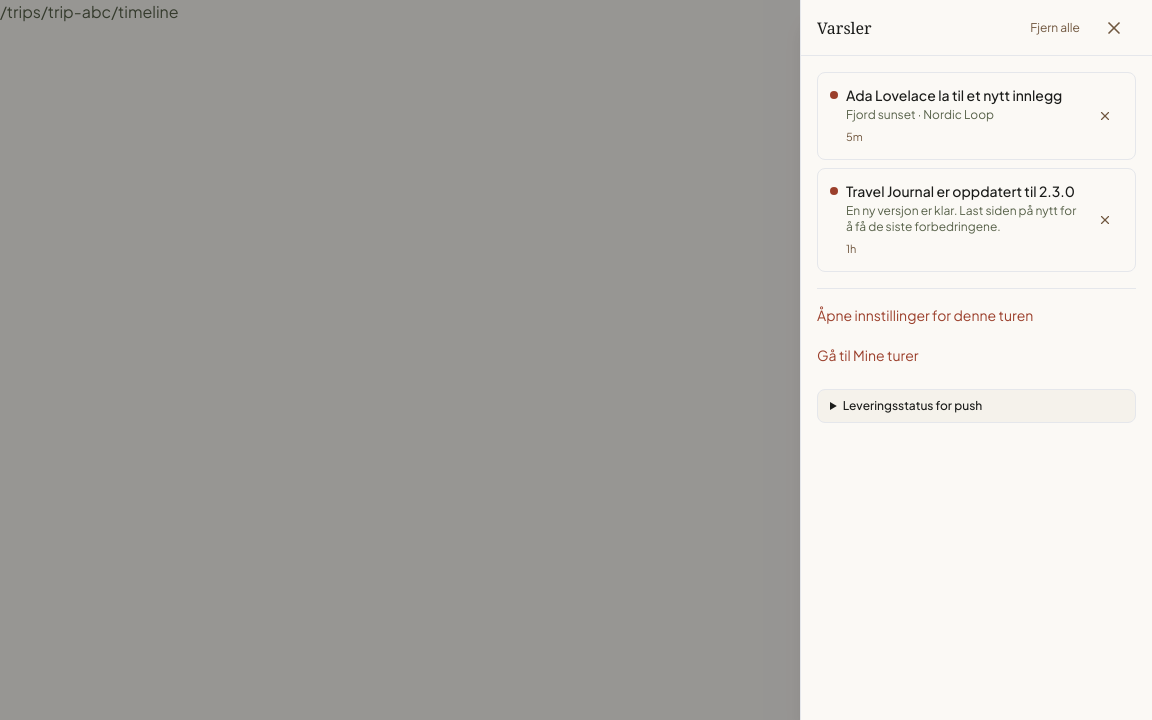
Notifications inbox (bell badge + panel) › clears all when the clear-all action is used
The image size is (1152, 720).
Check: the list item with test id "notification-item-notif-trip-1" is shown, box [817,72,1136,160]
Click the button "Fjern alle" at [1055, 28], box [1022,16,1088,40]
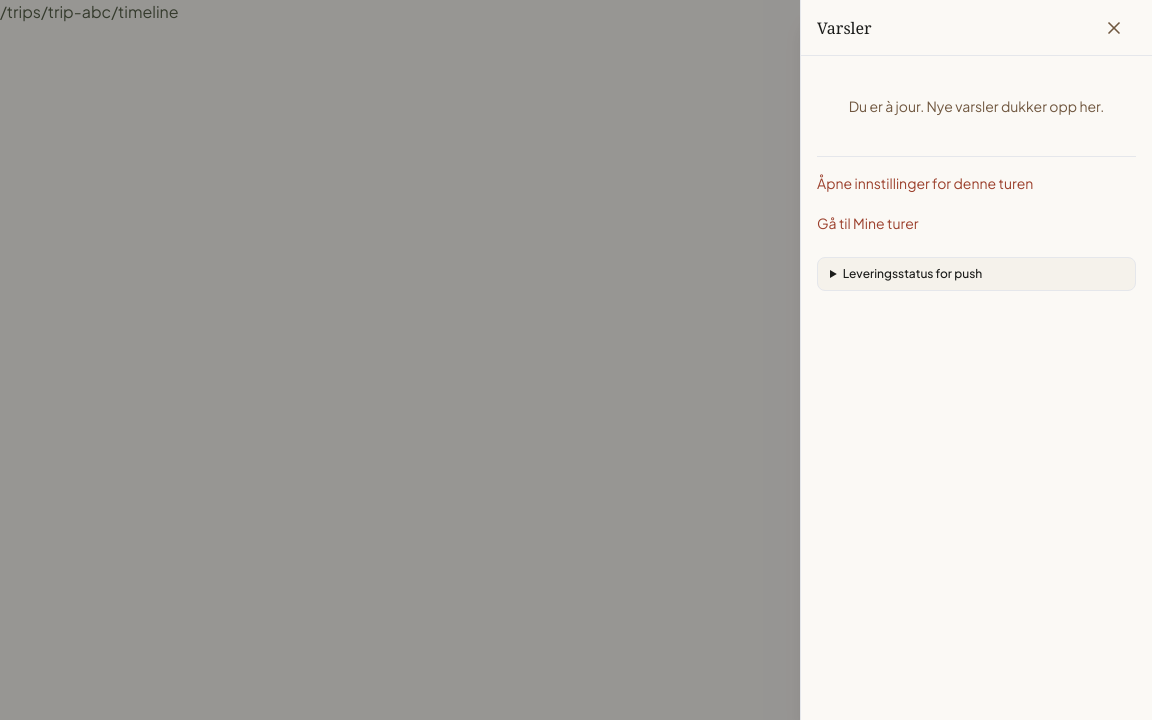
Check: the list item with test id "notification-item-notif-trip-1" is gone
